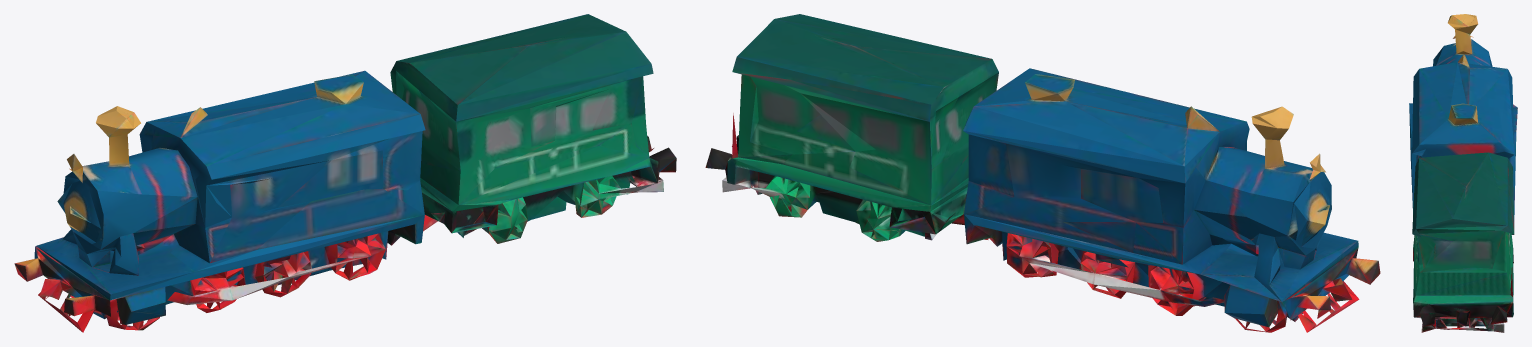
3 views of the same model, side by side, from view 1: azimuth 30°, elevation 25°; view 2: azimuth 150°, elevation 25°; view 3: azimuth 270°, elevation 25° (orthographic). The views are drawn at different scales.
Size of the model in its own units: 1 by 0.3215 by 0.2106.
Materials: 1 (1 with a texture image).
